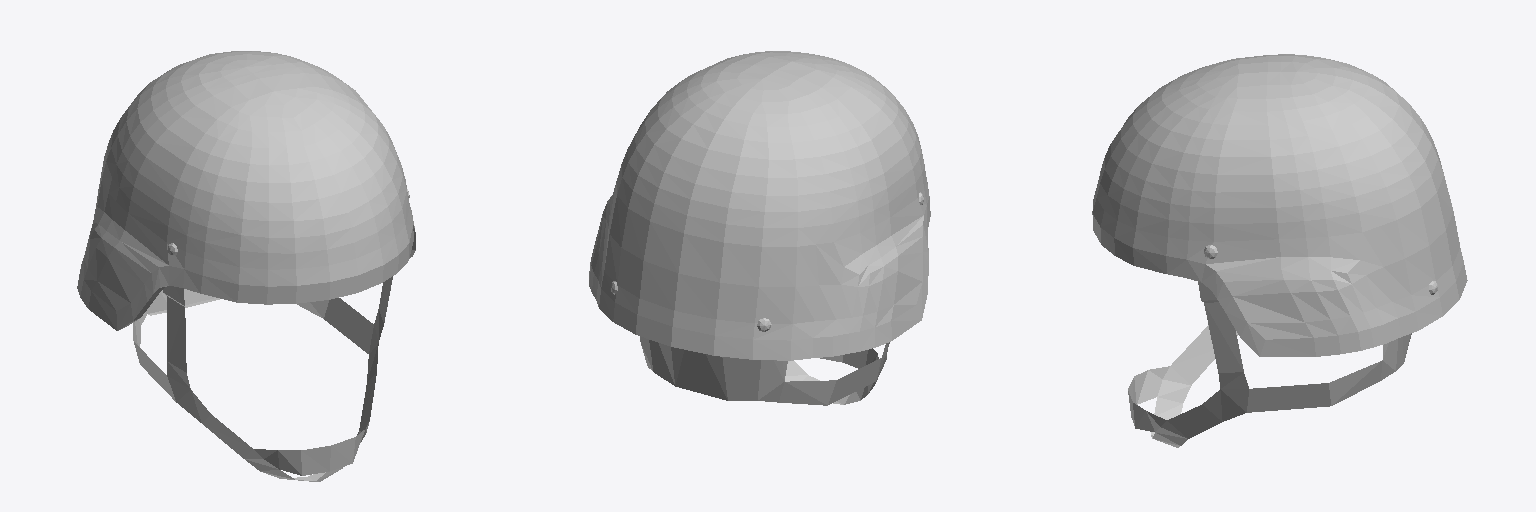
The model's file is MICH+2000.obj.
3 views of the same model, side by side, from view 1: azimuth 30°, elevation 25°; view 2: azimuth 150°, elevation 25°; view 3: azimuth 270°, elevation 25° (orthographic).
Size of the model in its own units: 5.62 by 6.72 by 6.23.